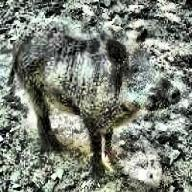boar: (6, 14, 179, 174)
